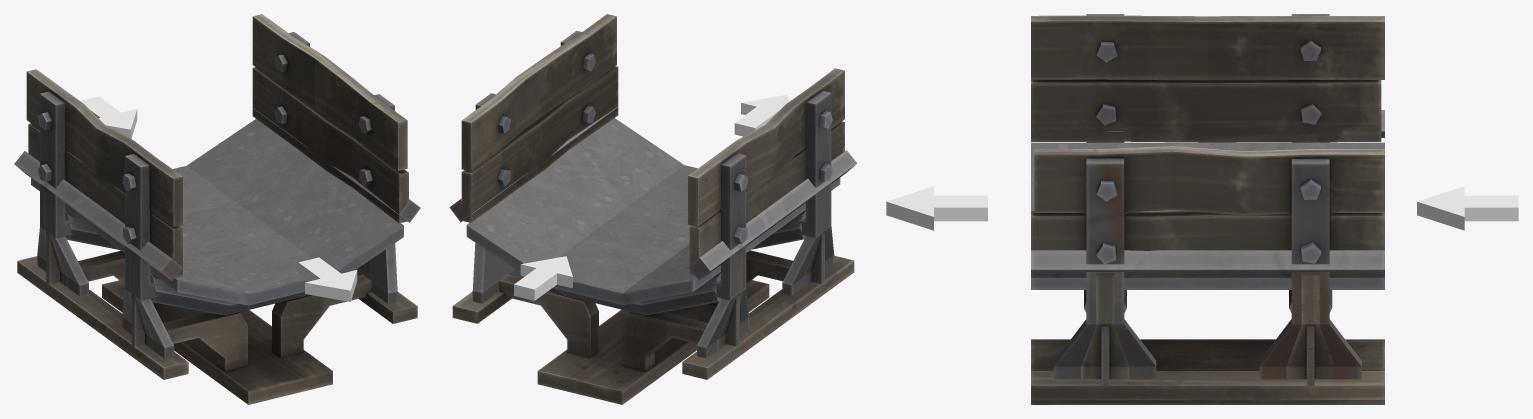
File: WallConveyor_Straight.glb
The picture shows the model from 3 angles, left to right: view 1: azimuth 30°, elevation 25°; view 2: azimuth 150°, elevation 25°; view 3: azimuth 270°, elevation 25°; orthographic projection. The views are drawn at different scales.
Visible parts, largest first — view 1: WallConveyor_Straight, WallConveyor_WallRight, WallConveyor_WallLeft, WallConveyor_Reg_Right, ghostarrow, ghostarrow (1), WallConveyor_RedLeft; view 2: WallConveyor_Straight, WallConveyor_WallRight, WallConveyor_WallLeft, WallConveyor_Reg_Right, ghostarrow (1), ghostarrow, WallConveyor_RedLeft; view 3: WallConveyor_WallLeft, WallConveyor_WallRight, WallConveyor_Straight, WallConveyor_RedLeft, ghostarrow (1), ghostarrow.
Boxes of the visible parts, x1,y1,x2,y2 form: WallConveyor_Straight: [17, 119, 417, 404]; WallConveyor_WallRight: [26, 69, 182, 358]; WallConveyor_WallLeft: [252, 14, 408, 303]; WallConveyor_Reg_Right: [14, 151, 182, 349]; ghostarrow: [298, 257, 357, 301]; ghostarrow (1): [80, 96, 137, 138]; WallConveyor_RedLeft: [252, 107, 420, 284]; WallConveyor_Straight: [452, 118, 854, 404]; WallConveyor_WallRight: [688, 68, 844, 358]; WallConveyor_WallLeft: [461, 14, 618, 303]; WallConveyor_Reg_Right: [688, 150, 857, 349]; ghostarrow (1): [514, 256, 572, 300]; ghostarrow: [734, 94, 789, 136]; WallConveyor_RedLeft: [449, 106, 618, 294]; WallConveyor_WallLeft: [1031, 146, 1384, 385]; WallConveyor_WallRight: [1031, 14, 1384, 142]; WallConveyor_Straight: [1031, 142, 1384, 404]; WallConveyor_RedLeft: [1031, 250, 1384, 385]; ghostarrow (1): [1417, 186, 1518, 230]; ghostarrow: [886, 186, 987, 230].
Size of the model in its own units: 1.05 by 0.9291 by 1.79.
Materials: 3 (2 with a texture image).
